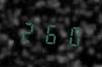six: (40, 19, 60, 47)
two: (18, 17, 38, 45)
zero: (61, 20, 81, 49)
